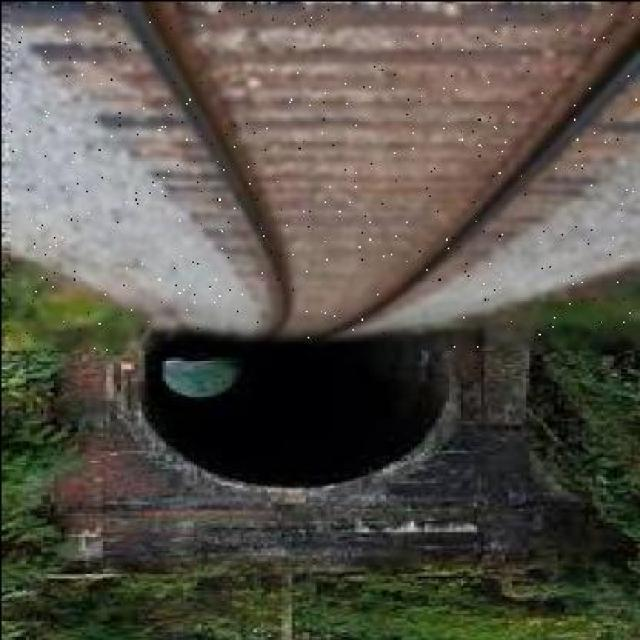rail: (10, 6, 640, 349)
